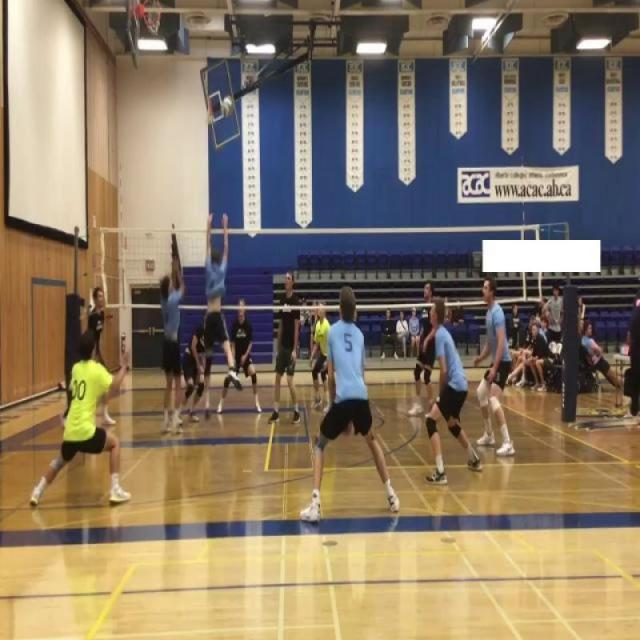volleyball: (221, 95, 234, 119)
